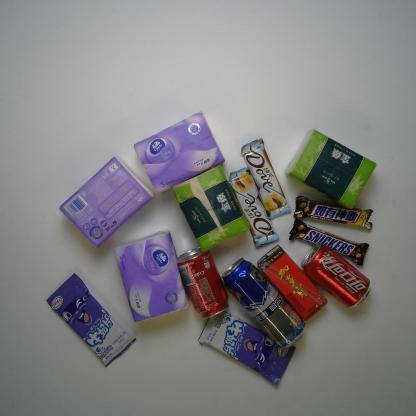Alcohol: (221, 256, 307, 350)
Candy: (43, 271, 137, 369), (198, 310, 298, 387)
Chocolate: (240, 137, 292, 222), (228, 165, 280, 248), (288, 218, 370, 266), (292, 196, 374, 230)
Drink: (255, 244, 329, 323), (300, 242, 371, 310), (177, 245, 229, 318)
Tissue: (57, 155, 155, 251), (132, 111, 226, 195), (284, 128, 377, 210), (112, 228, 190, 322), (170, 164, 251, 254)
